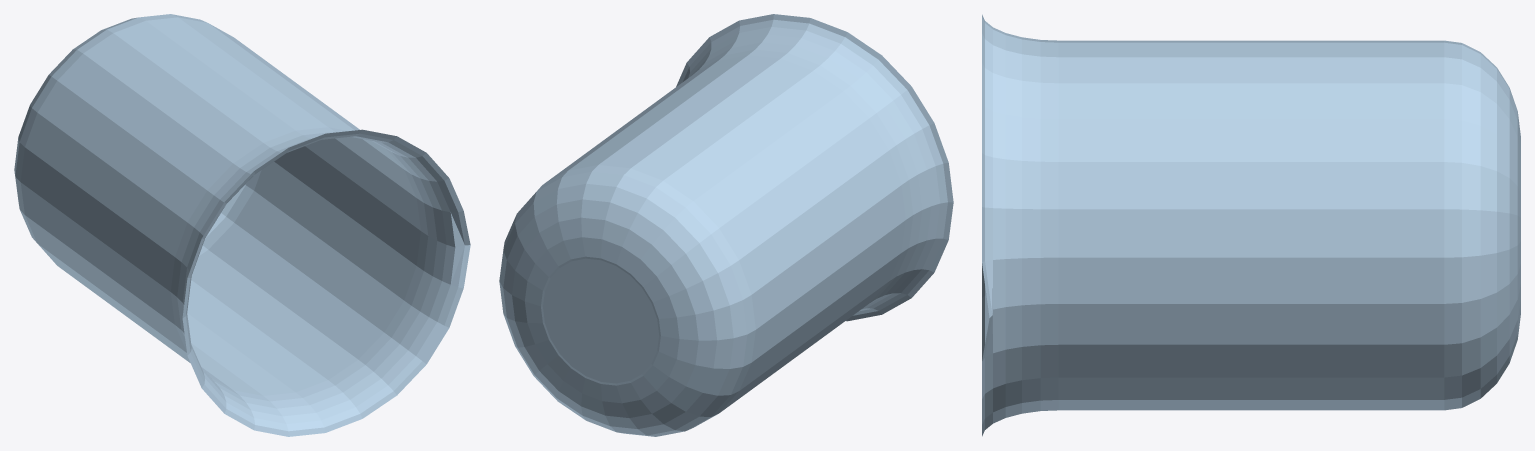
3 views of the same model, side by side, from view 1: azimuth 30°, elevation 25°; view 2: azimuth 150°, elevation 25°; view 3: azimuth 270°, elevation 25° (orthographic). The views are drawn at different scales.
Parts seen in each view (by area): view 1: beaker; view 2: beaker; view 3: beaker.
Part boxes in pixels (<box>): beaker: <box>14,14,470,436</box>; beaker: <box>499,14,953,436</box>; beaker: <box>982,14,1520,436</box>.
Bounding box in the file's own units: 112 × 110 × 140.
